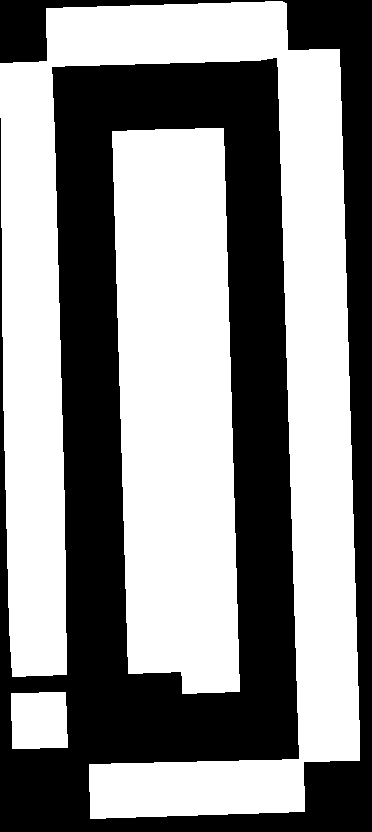parkingspot: (277, 49, 359, 761), (166, 128, 239, 693), (0, 61, 66, 676), (112, 129, 184, 673), (46, 1, 287, 66), (89, 759, 304, 818), (11, 692, 67, 748)
